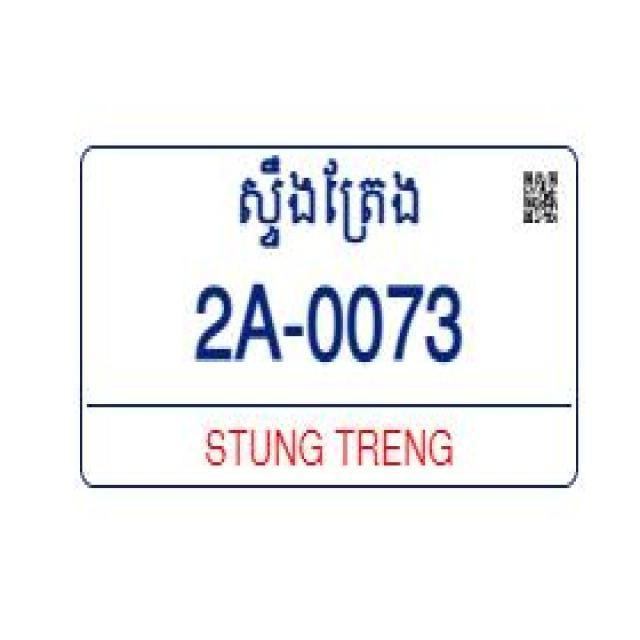Stung_Treng: (238, 152, 418, 246)
